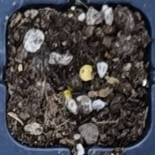pepper seed: (31, 24, 126, 105), (25, 37, 98, 139)
